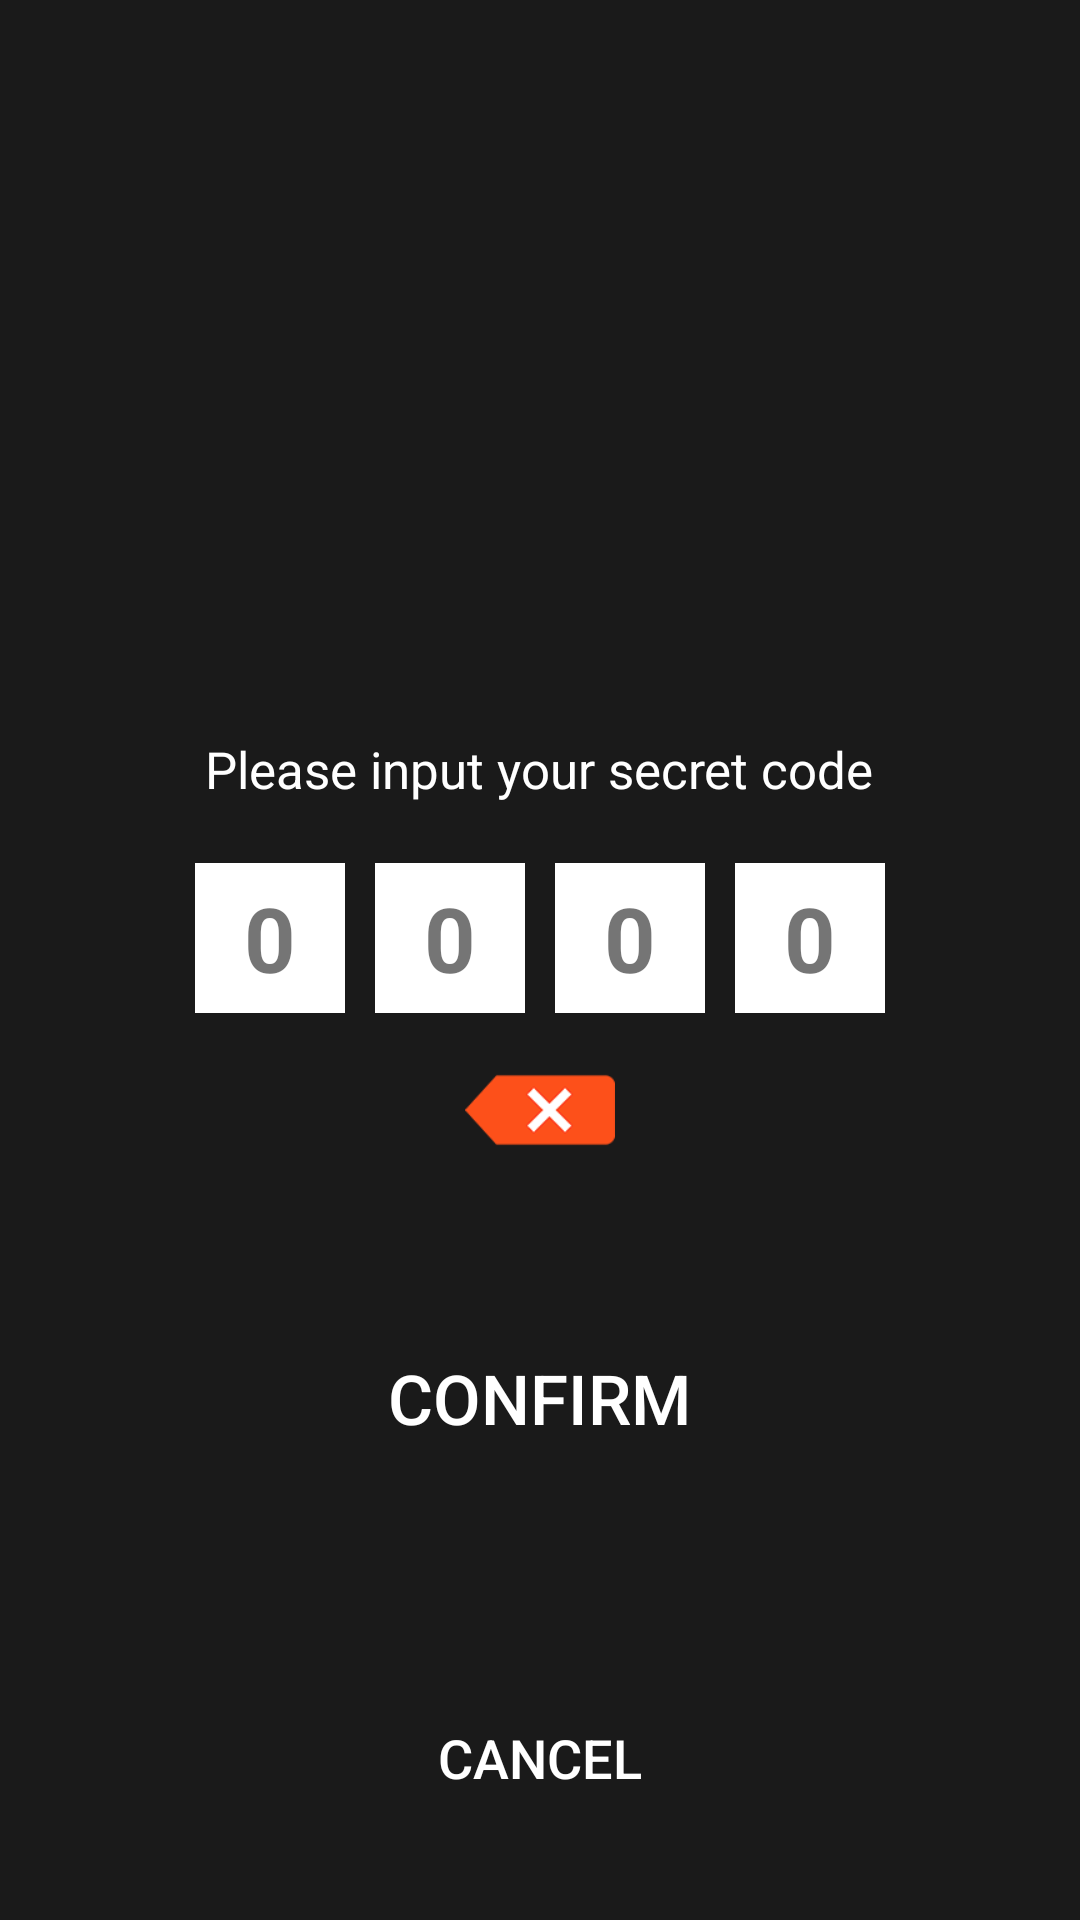

Screen size 1080x1920. Icon name, then its box in pixels as [x1,y1,x2,y2]:
clear: [465,1075,615,1145]
